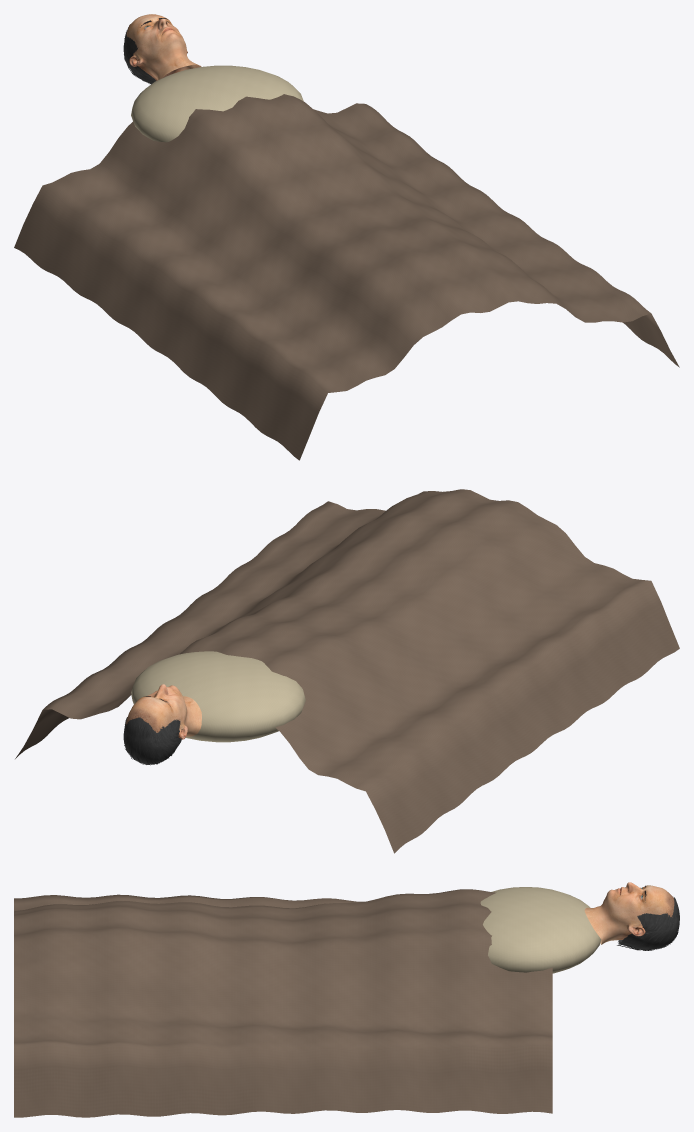
File: household-patient.glb
The picture shows the model from 3 angles, top to bottom: view 1: azimuth 30°, elevation 25°; view 2: azimuth 150°, elevation 25°; view 3: azimuth 270°, elevation 25°; orthographic projection. The views are drawn at different scales.
Visible parts, largest first — view 1: patient_breathing_coverlet, Patient nightshirt, Resting patient Snow anatomy; view 2: patient_breathing_coverlet, Patient nightshirt, Resting patient Snow anatomy, Resting patient Snow swept hair; view 3: patient_breathing_coverlet, Patient nightshirt, Resting patient Snow anatomy, Resting patient Snow swept hair.
Boxes of the visible parts, box(x1,y1,x2,y2) form: patient_breathing_coverlet: box(14, 94, 679, 460); Patient nightshirt: box(131, 65, 303, 142); Resting patient Snow anatomy: box(126, 14, 201, 80); patient_breathing_coverlet: box(15, 489, 679, 853); Patient nightshirt: box(131, 651, 305, 742); Resting patient Snow anatomy: box(126, 684, 201, 739); Resting patient Snow swept hair: box(123, 717, 181, 765); patient_breathing_coverlet: box(14, 889, 552, 1117); Patient nightshirt: box(480, 887, 601, 973); Resting patient Snow anatomy: box(584, 882, 674, 944); Resting patient Snow swept hair: box(617, 897, 679, 950).
Size of the model in its own units: 1.23 by 0.4841 by 1.98.
Materials: 6 (6 with a texture image).
